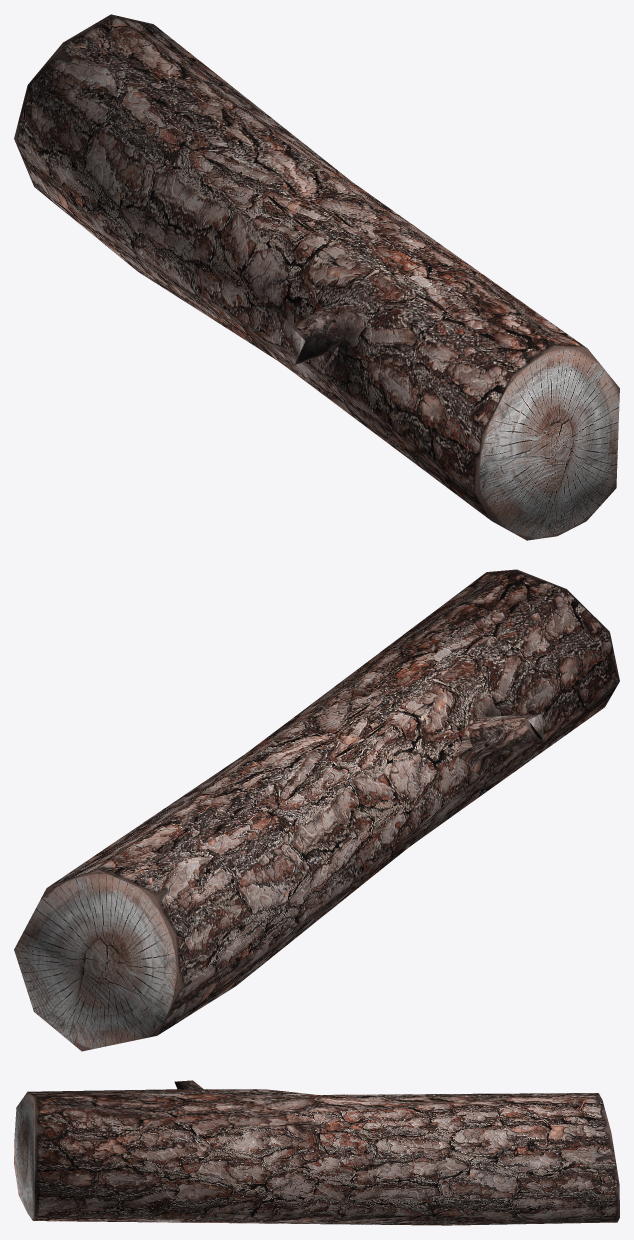
The model's file is tronco.obj.
3 renders of one model, top to bottom at view 1: azimuth 30°, elevation 25°; view 2: azimuth 150°, elevation 25°; view 3: azimuth 270°, elevation 25°, orthographic. The views are drawn at different scales.
Parts seen in each view (by area): view 1: Tronco; view 2: Tronco; view 3: Tronco.
Part boxes in pixels (x1,y1,x2,y2): Tronco: (14, 14, 619, 540); Tronco: (14, 569, 619, 1051); Tronco: (14, 1080, 619, 1225).
Size of the model in its own units: 0.946 by 0.7654 by 3.42.
